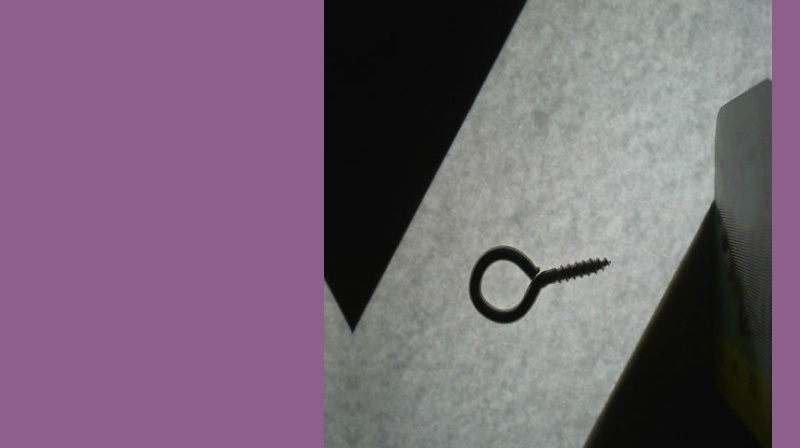O001: (466, 241, 614, 328)
